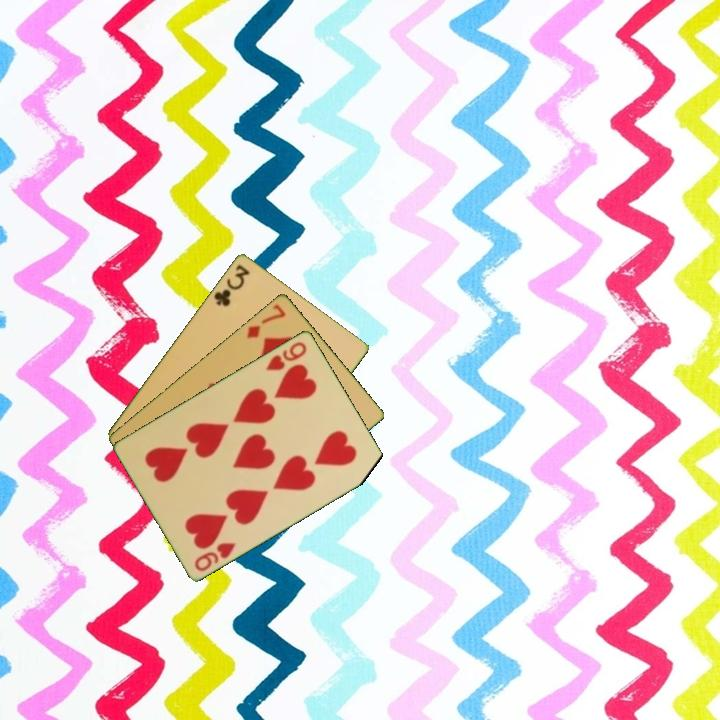3c: (210, 260, 252, 309)
7d: (243, 300, 289, 341)
9h: (262, 337, 310, 373), (191, 538, 239, 574)
